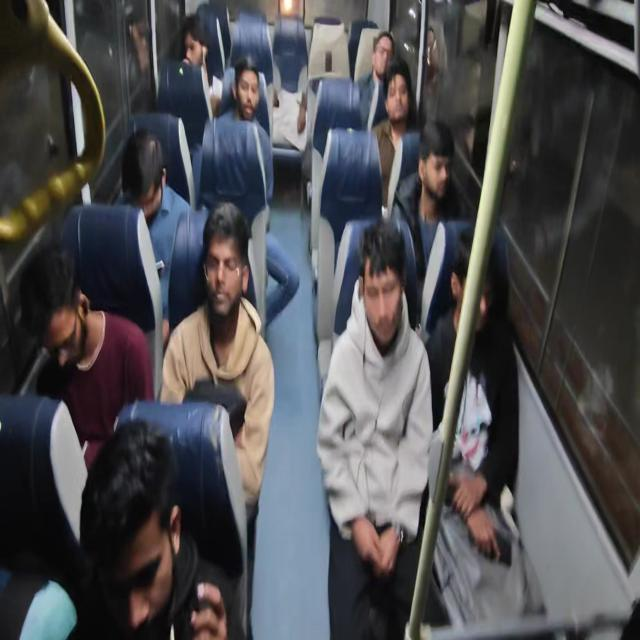person: (358, 218, 409, 348), (452, 221, 496, 337), (418, 111, 454, 214), (231, 58, 271, 129), (180, 14, 213, 80), (381, 54, 411, 126), (369, 24, 395, 93)
